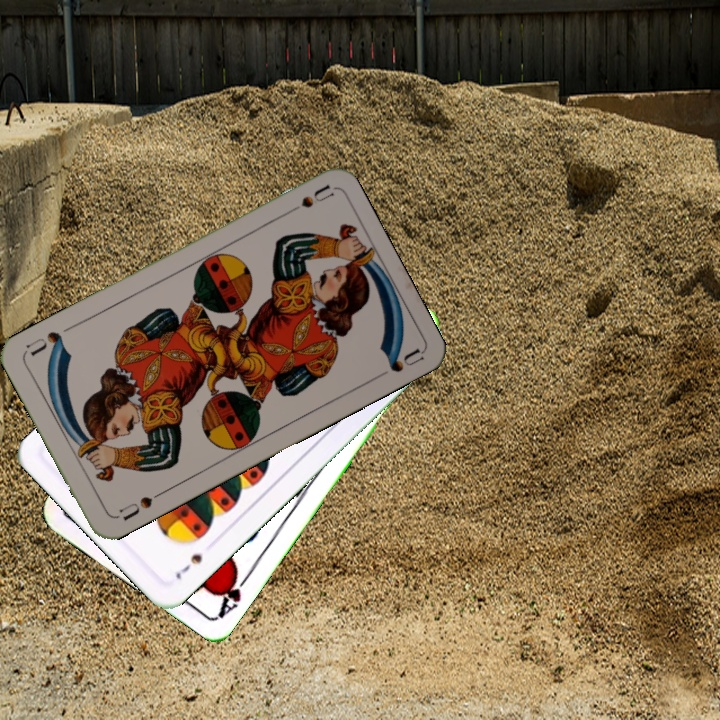HA: (214, 564, 255, 619)
S7: (171, 549, 205, 583)
SU: (279, 181, 336, 220), (112, 487, 166, 523)
